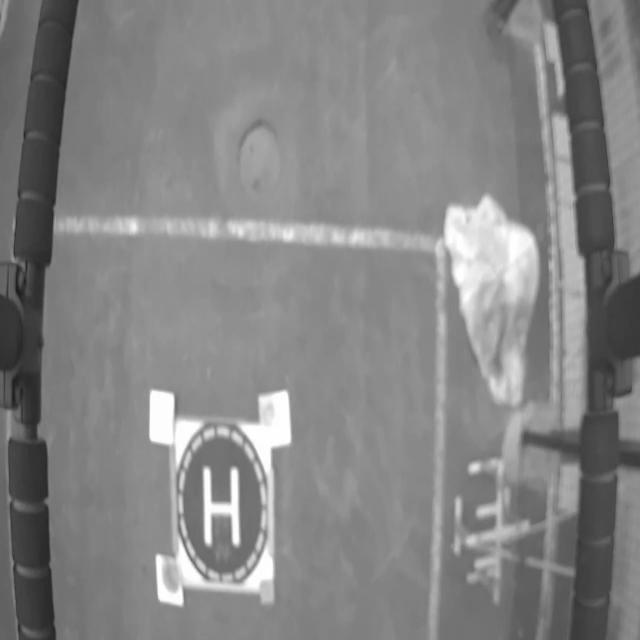Helipad: (203, 466, 241, 547)
